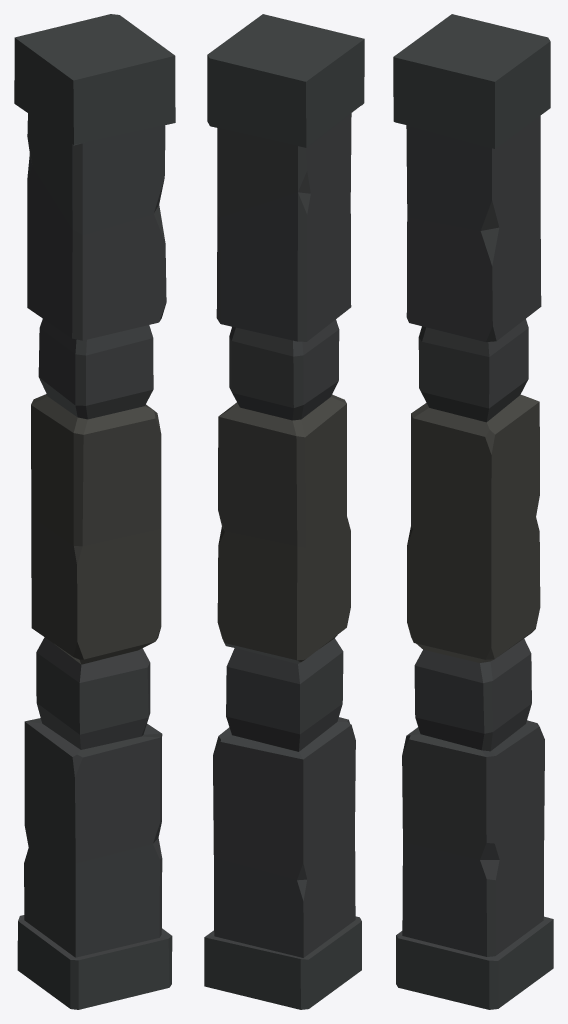
Rendered from Pillar_1.fbx.
The picture shows the model from 3 angles, left to right: view 1: azimuth 30°, elevation 25°; view 2: azimuth 150°, elevation 25°; view 3: azimuth 330°, elevation 25°; orthographic projection.
Parts seen in each view (by area): view 1: Pillar_1; view 2: Pillar_1; view 3: Pillar_1.
Boxes of the visible parts, x1,y1,x2,y2 form: Pillar_1: (14,14,175,1009); Pillar_1: (204,14,364,1009); Pillar_1: (393,14,553,1009).
Bounding box in the file's own units: 29.71 × 258 × 29.69.
